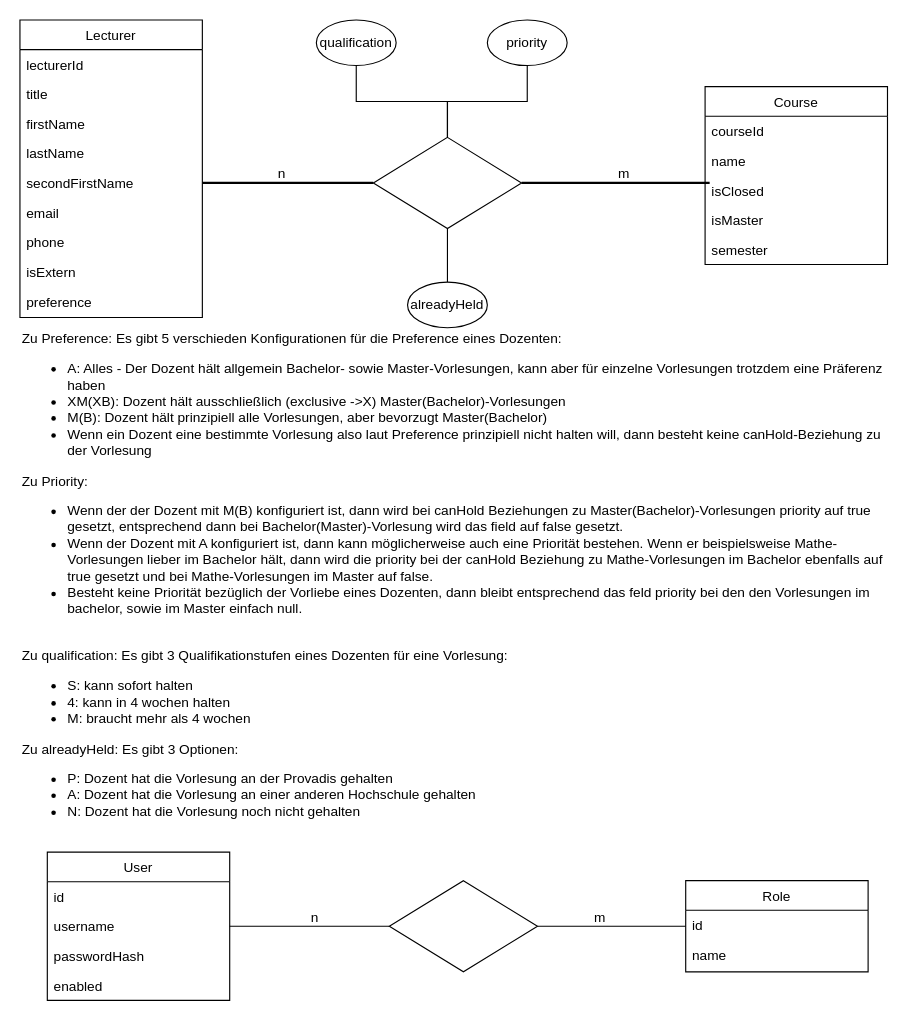
The diagram is 918 pixels wide and 1024 high, and some of its shapes have lost their labels. Each missing label, with the centre of its shape:
"canHold" goes at point 447,182.
"UserHasRole" goes at point 463,926.
